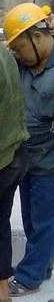boots: (7, 275, 39, 296), (0, 234, 13, 246)
hard-hat: (0, 72, 15, 95)
